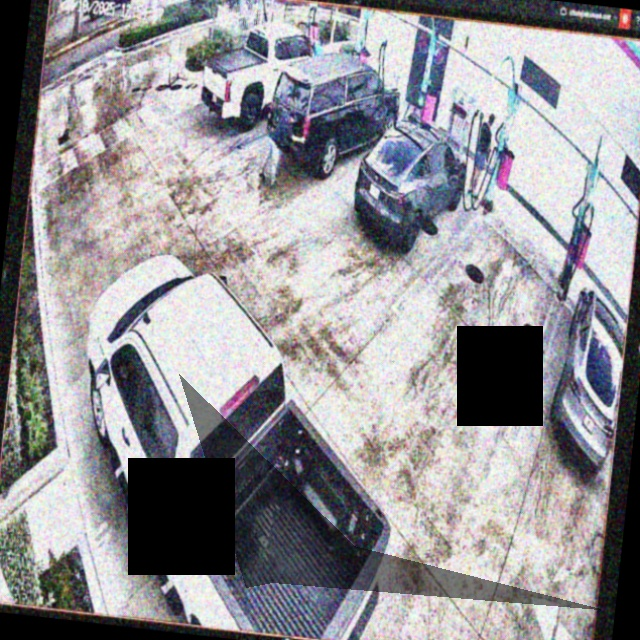Car: (57, 236, 418, 640), (261, 45, 404, 188), (350, 112, 472, 252)
